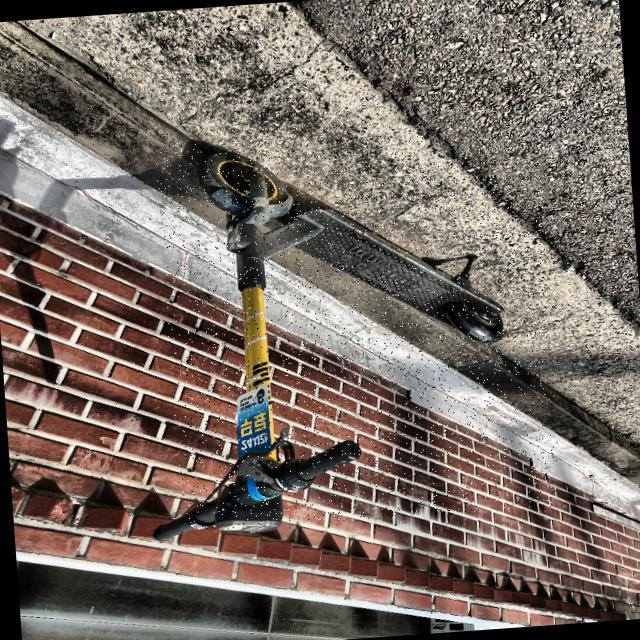bike: (1, 4, 510, 565)
